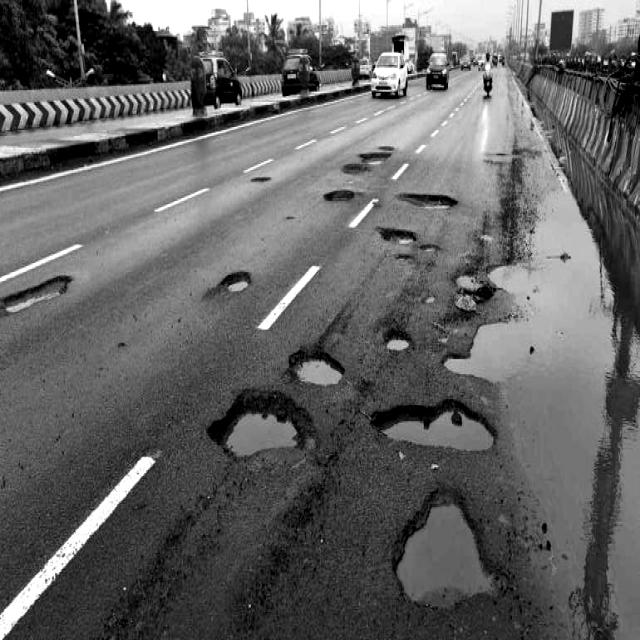pathole: (493, 155, 640, 640), (377, 261, 510, 469), (187, 321, 346, 471), (382, 480, 528, 640), (0, 213, 104, 378), (358, 189, 469, 264), (325, 133, 395, 227), (216, 257, 265, 318), (247, 161, 279, 205)
